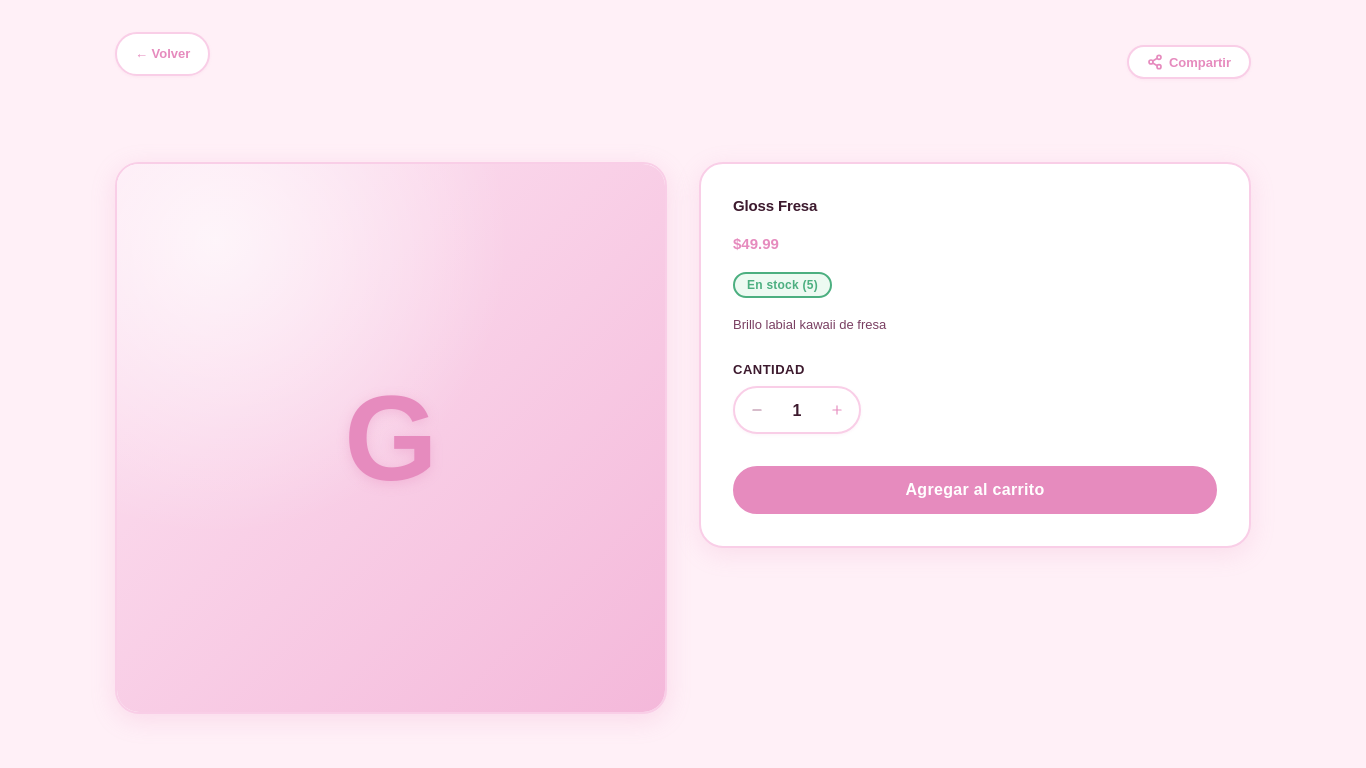
it: ProductDetailPage — temporizador del toast › muestra el toast al agregar al carrito
Click the button "Agregar al carrito" at (975, 490), box left=733, top=466, right=1217, bottom=514
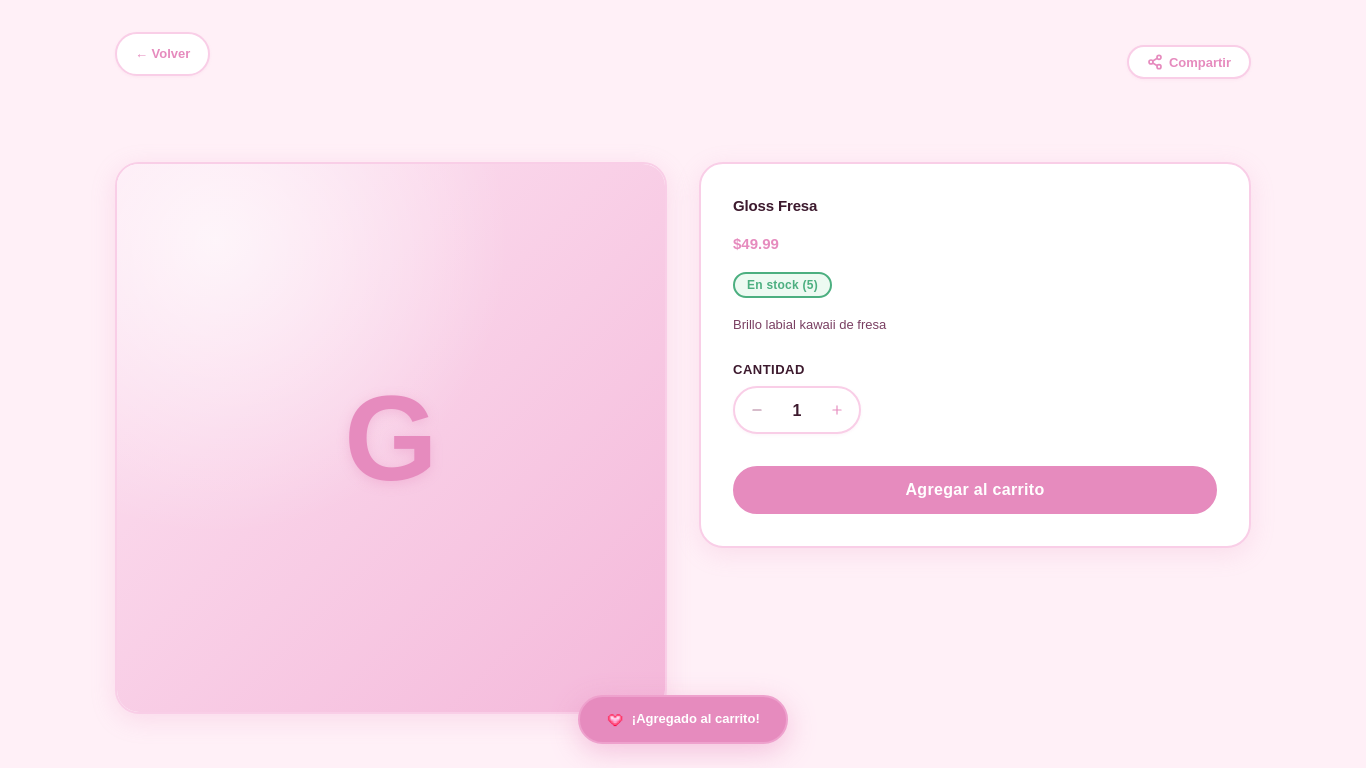
Result: the text "¡Agregado al carrito!" is shown at left=632, top=709, right=760, bottom=730
